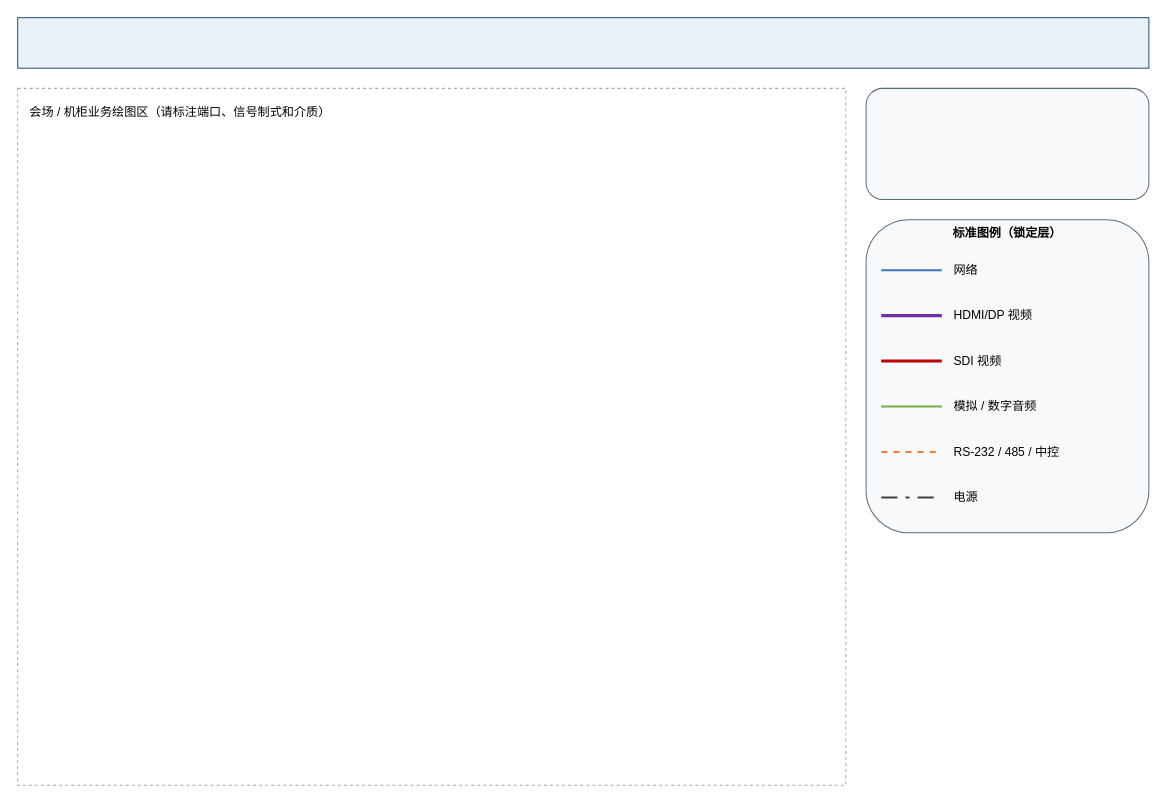
This 1167x803 diagram has some shape labels left out. The shapes that lost their labels are listed below. From the top down, each one's centre as x and y in pixels, then its label:
[583,42]: 会议拓扑图｜客户：____｜会场：____｜版本：V1｜日期：____
[1007,143]: 常用图形：视频会议终端 摄像机 麦克风 调音台 音频处理 功放 音箱 矩阵/拼控 显示设备 中控 交换机 UPS
